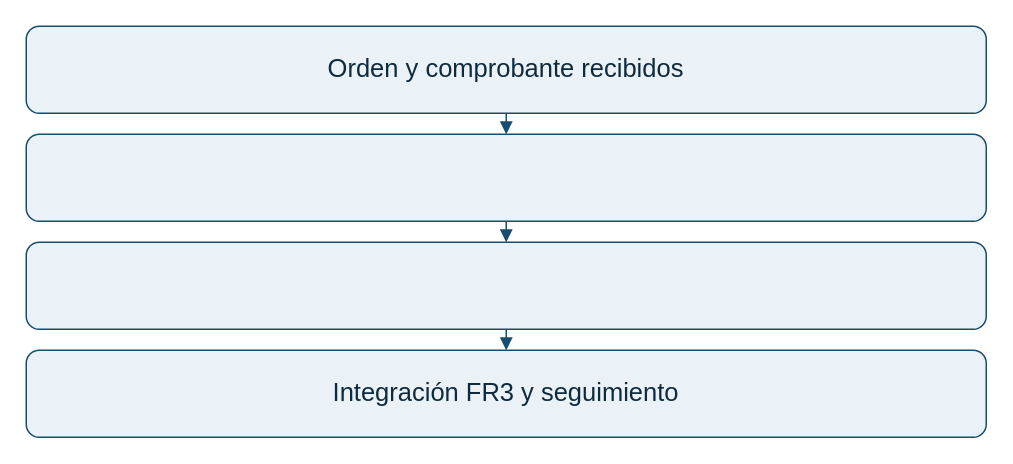
The diagram is 1013 pixels wide and 464 high, and some of its shapes have lost their labels. Here are the shapes that lost their labels. From the top down, the centre of each, then its label:
At (x=505, y=177): "Verificación y decisión".
At (x=505, y=285): "Factura y persistencia local".
